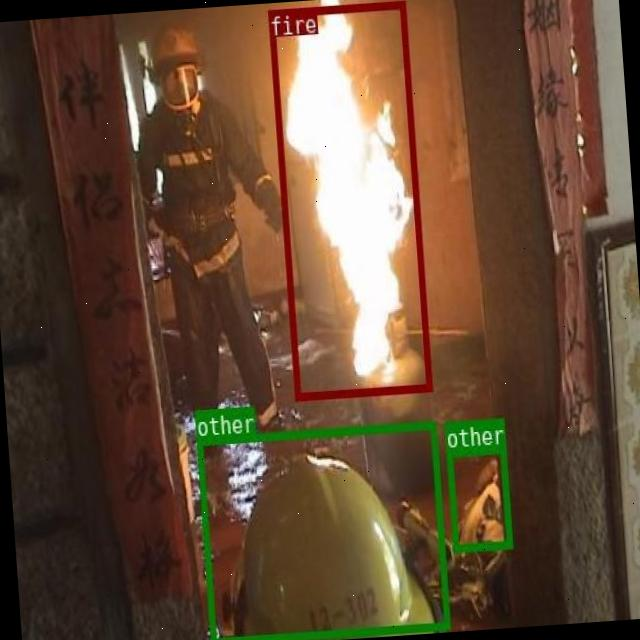fire: (266, 0, 431, 399)
